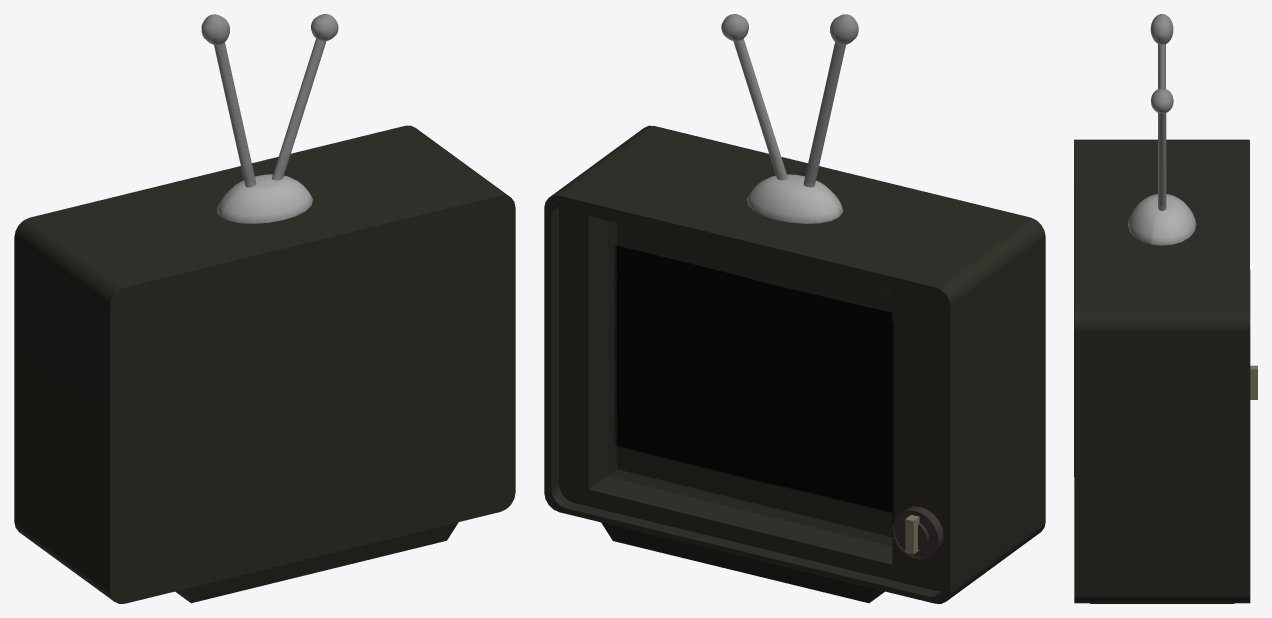
The picture shows the model from 3 angles, left to right: view 1: azimuth 30°, elevation 25°; view 2: azimuth 150°, elevation 25°; view 3: azimuth 270°, elevation 25°; orthographic projection. The views are drawn at different scales.
Visible parts, largest first — view 1: polySurface57; view 2: polySurface57; view 3: polySurface57.
Boxes of the visible parts, x1,y1,x2,y2 form: polySurface57: (14, 14, 515, 603); polySurface57: (544, 14, 1045, 603); polySurface57: (1074, 14, 1257, 603).
Bounding box in the file's own units: 12.1 × 15.5 × 5.15.
Materials: 5 (1 with a texture image).
